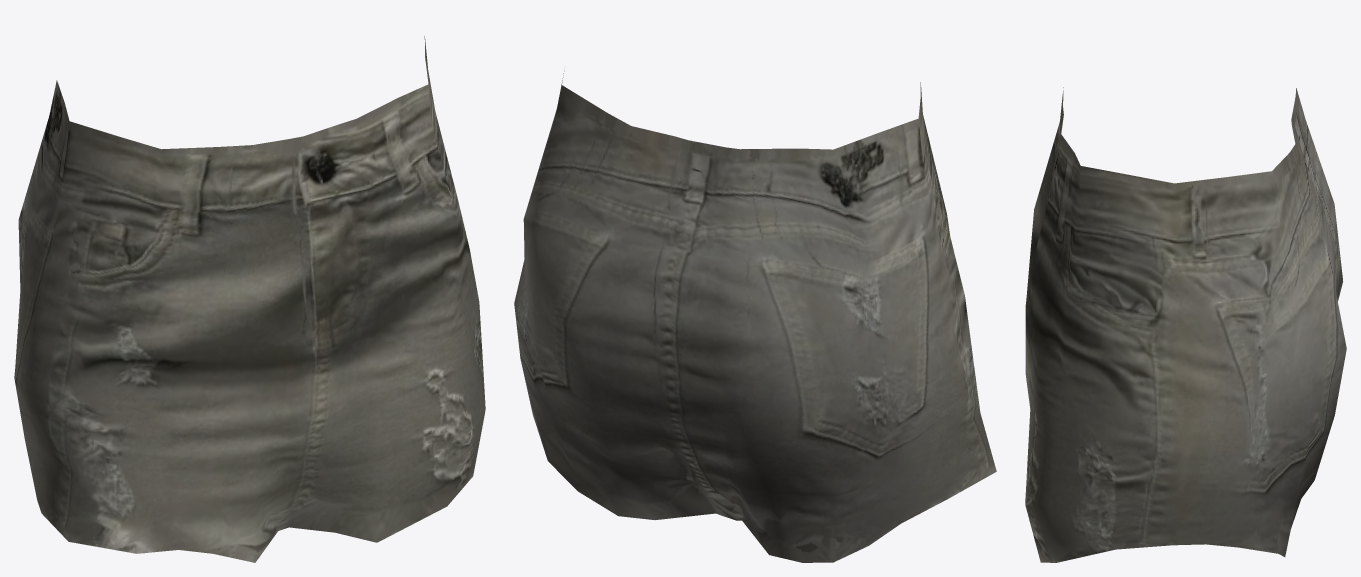
3 views of the same model, side by side, from view 1: azimuth 30°, elevation 25°; view 2: azimuth 150°, elevation 25°; view 3: azimuth 270°, elevation 25° (orthographic). The views are drawn at different scales.
Visible parts, largest first — view 1: geometry_0; view 2: geometry_0; view 3: geometry_0.
Part boxes in pixels (left/top/right/bottom): geometry_0: left=14, top=36, right=485, bottom=562; geometry_0: left=514, top=71, right=996, bottom=562; geometry_0: left=1025, top=87, right=1346, bottom=562.
Size of the model in its own units: 0.3814 by 0.3572 by 0.2479.
1 material, 1 textured.
